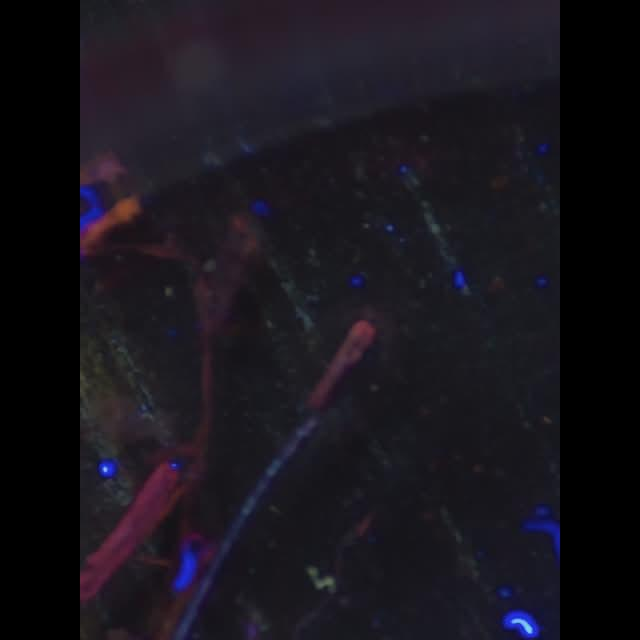Fibre: (306, 568, 338, 596)
